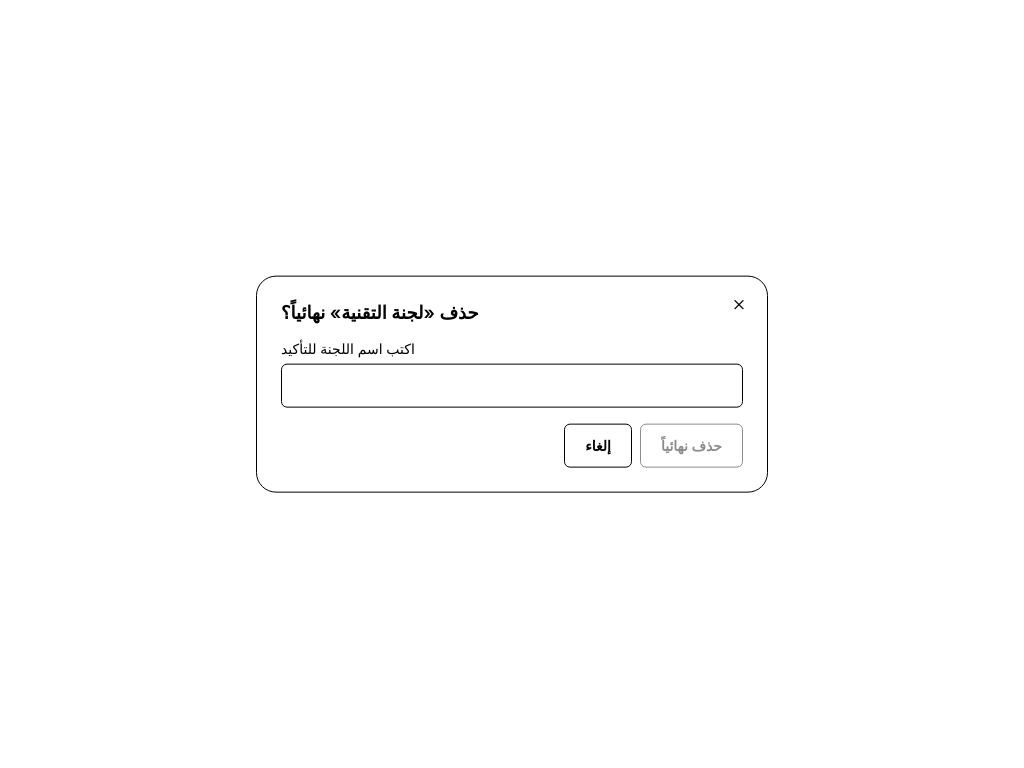
Test: TypedConfirmDialog › stays open and names a refused confirmation
This screenshot has width=1024, height=768.
In the field labelled "اكتب اسم اللجنة للتأكيد": [512, 385] box top-left (281, 363), bottom-right (743, 407), type "لجنة التقنية"
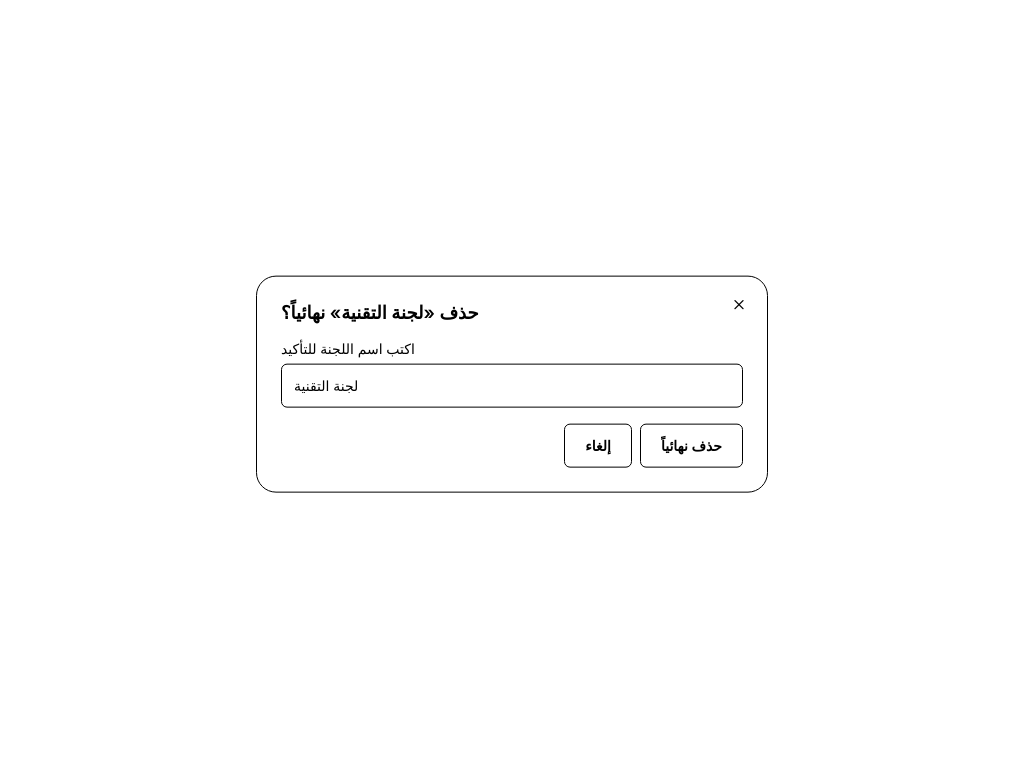
Click the button "حذف نهائياً": [692, 445] box top-left (640, 423), bottom-right (743, 467)
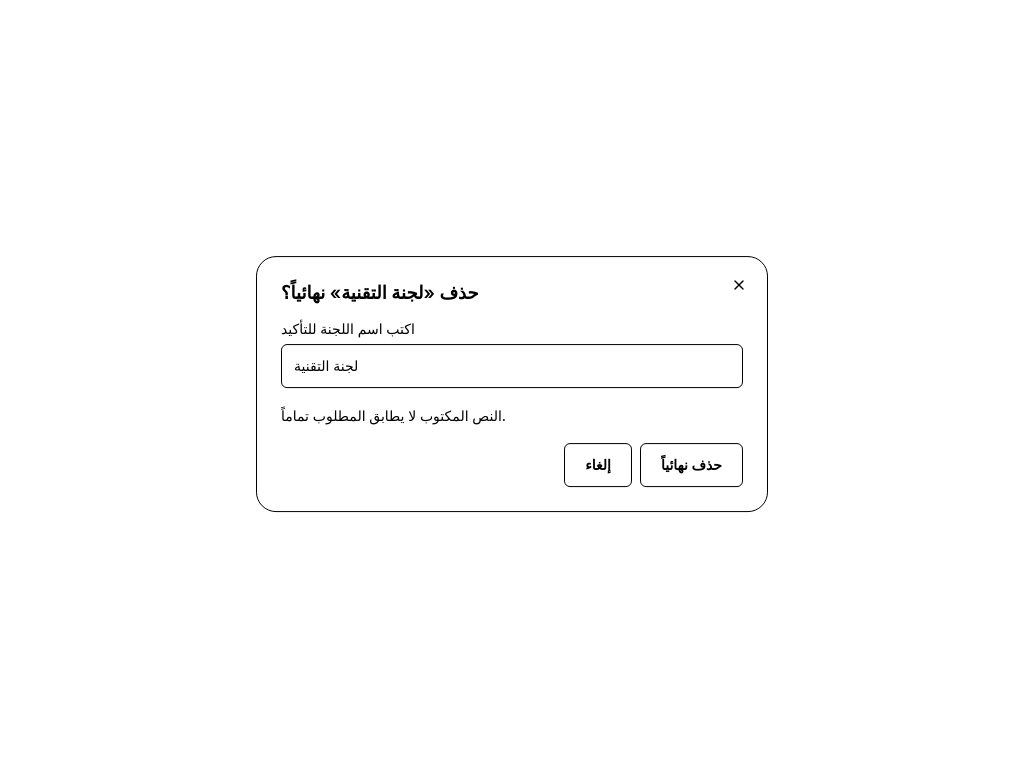
Now the message reads "النص المكتوب لا يطابق المطلوب تماماً.", box top-left (281, 407), bottom-right (506, 424)
